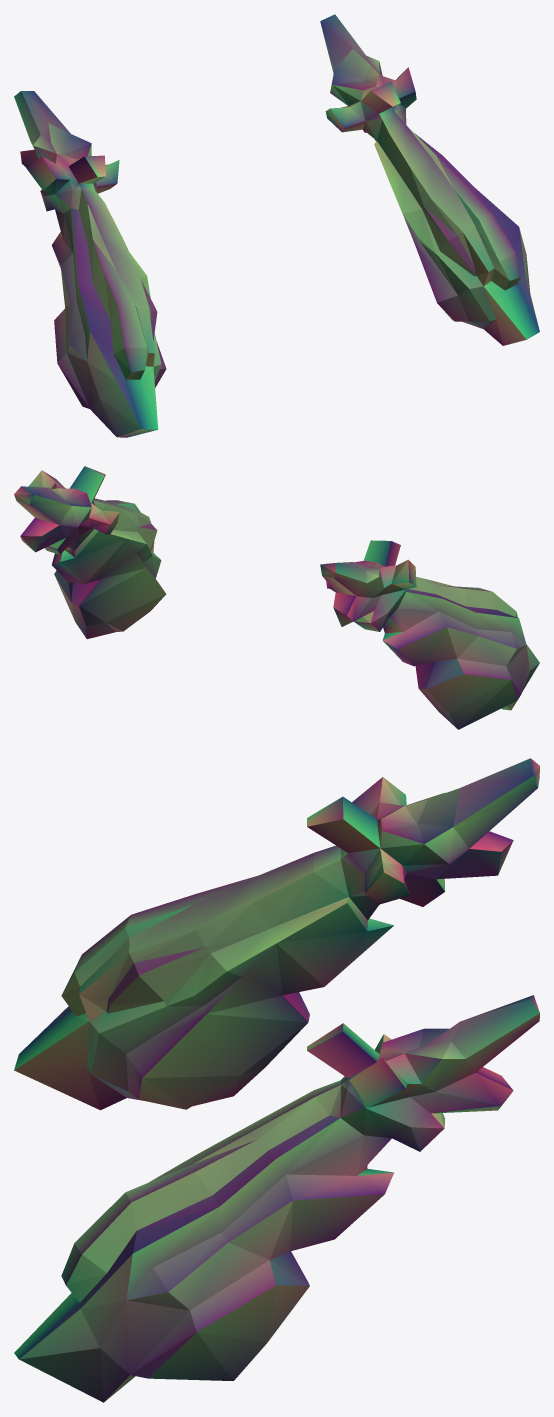
The model's file is Eff_GoblinWeapon_02.fbx.
The picture shows the model from 3 angles, top to bottom: view 1: azimuth 30°, elevation 25°; view 2: azimuth 150°, elevation 25°; view 3: azimuth 270°, elevation 25°; orthographic projection. The views are drawn at different scales.
Parts seen in each view (by area): view 1: Weapon_R, Weapon_L; view 2: Weapon_R, Weapon_L; view 3: Weapon_L, Weapon_R.
Boxes of the visible parts, x1=… form: Weapon_R: x1=14, y1=91, x2=166, y2=437; Weapon_L: x1=320, y1=14, x2=539, y2=345; Weapon_R: x1=320, y1=540, x2=539, y2=729; Weapon_L: x1=14, y1=466, x2=166, y2=638; Weapon_L: x1=14, y1=995, x2=539, y2=1402; Weapon_R: x1=14, y1=758, x2=539, y2=1110.
Bounding box in the file's own units: 5.98 × 3.01 × 3.82.
